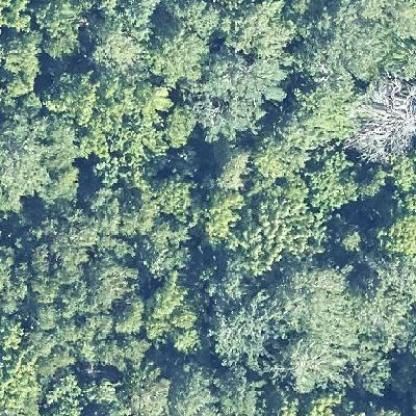tree-top: (0, 104, 81, 224), (80, 76, 176, 174), (344, 238, 415, 351), (140, 274, 227, 358), (182, 51, 264, 138), (345, 71, 415, 164), (144, 18, 210, 84), (220, 0, 298, 55), (302, 143, 358, 209), (44, 368, 122, 415), (82, 13, 140, 72), (30, 0, 84, 62), (166, 359, 222, 415), (0, 23, 41, 97), (202, 138, 251, 190)
